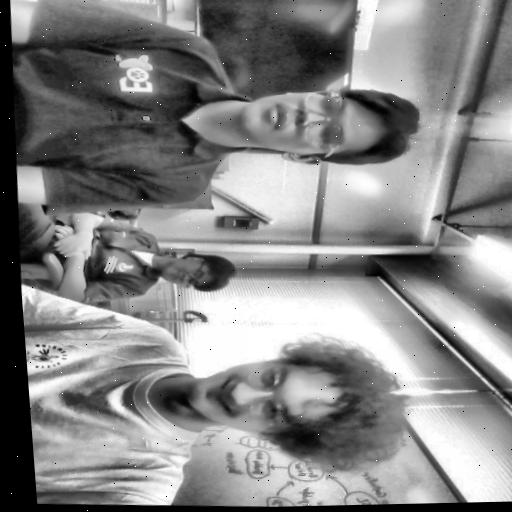Daifuku: (176, 324, 413, 473)
Not Daifuku: (224, 81, 420, 171), (155, 248, 236, 296)
